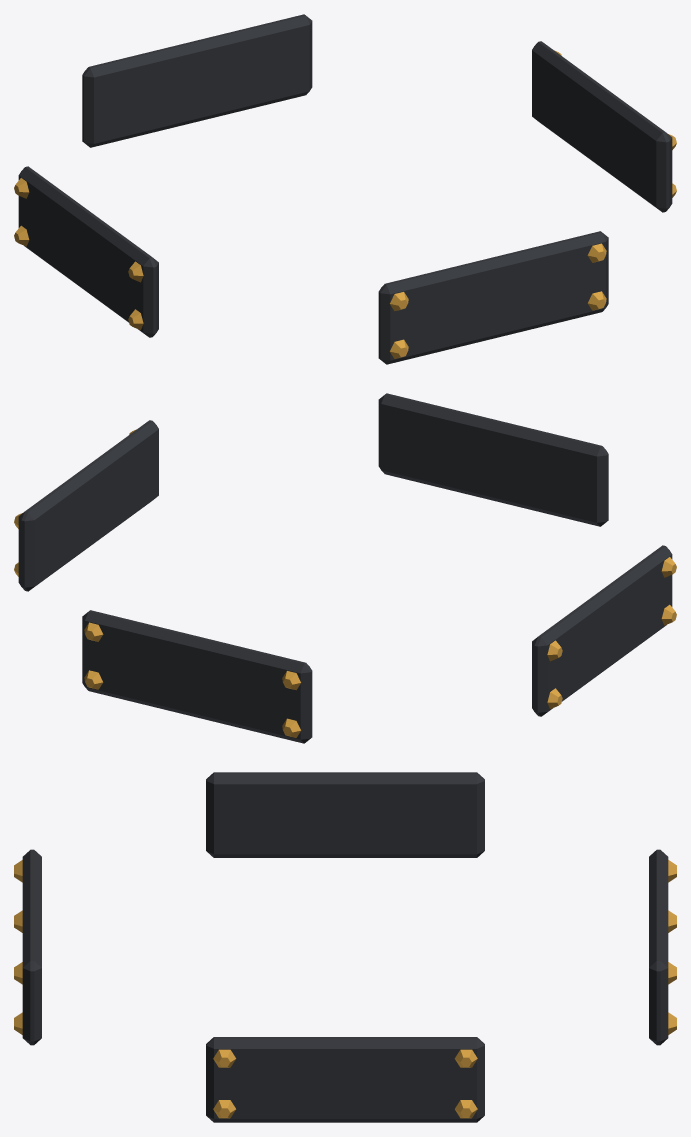
The model's file is MenderKit5.obj.
3 views of the same model, one above another, from view 1: azimuth 30°, elevation 25°; view 2: azimuth 150°, elevation 25°; view 3: azimuth 270°, elevation 25° (orthographic). The views are drawn at different scales.
Visible parts, largest first — view 1: MenderKit5; view 2: MenderKit5; view 3: MenderKit5.
Part boxes in pixels (box(x1,y1,x2,y2)): MenderKit5: box(14, 14, 676, 364); MenderKit5: box(14, 393, 676, 743); MenderKit5: box(14, 772, 676, 1122).
Size of the model in its own units: 0.8565 by 0.12 by 0.8565.
